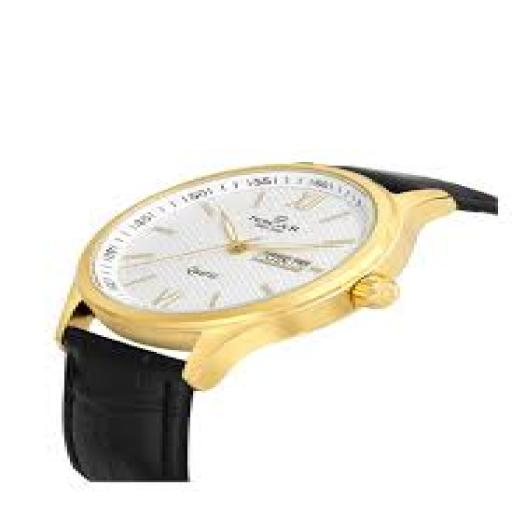KolSaati: (20, 123, 512, 491)
